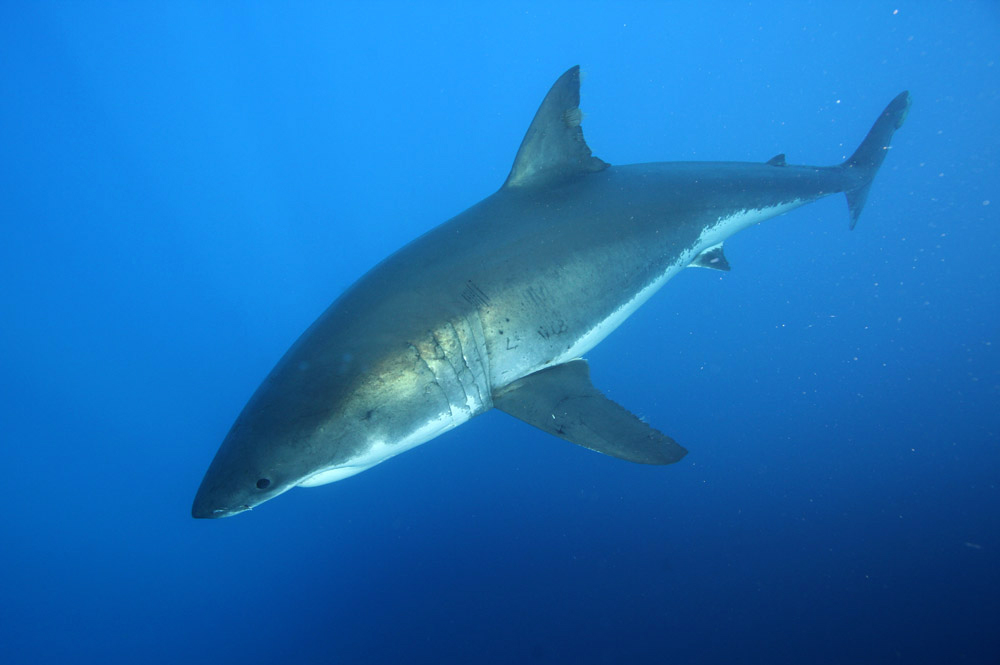Carcharodon_carcharias: (105, 36, 931, 541)
